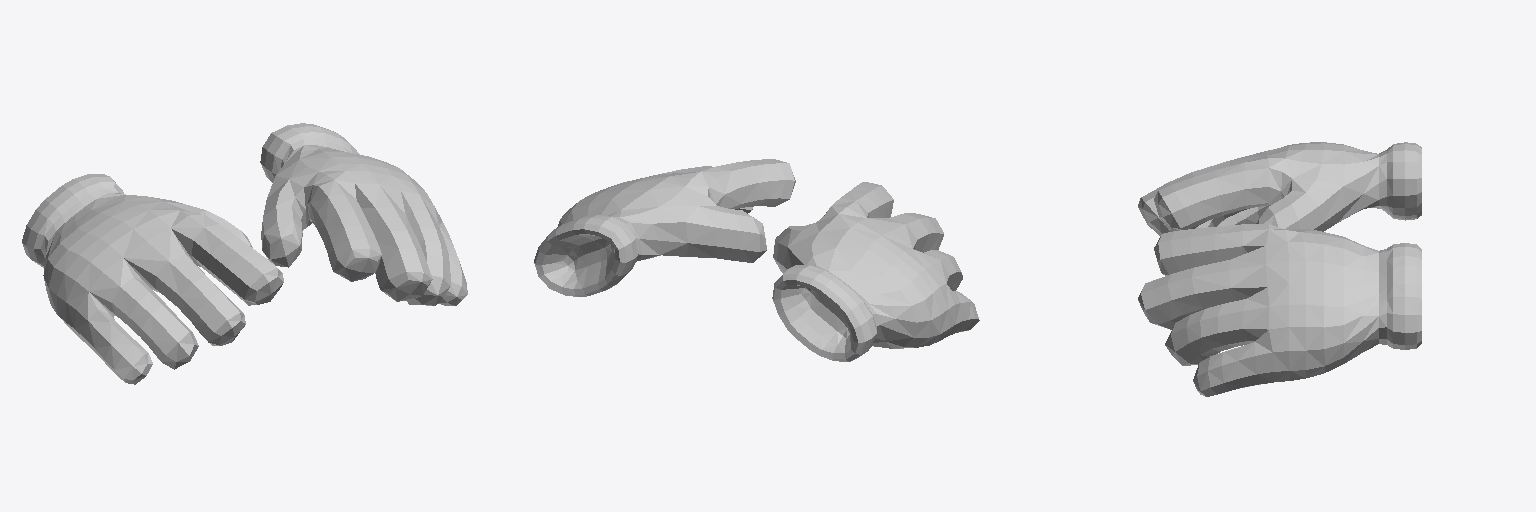
File: gloveLow_poly.obj
3 renders of one model, left to right at view 1: azimuth 30°, elevation 25°; view 2: azimuth 150°, elevation 25°; view 3: azimuth 270°, elevation 25°, orthographic.
Visible parts, largest first — view 1: Box04, Box05; view 2: Box04, Box05; view 3: Box05, Box04.
Part boxes in pixels (x1,y1,x2,y2): Box04: (22,174,283,384); Box05: (260,123,467,305); Box04: (772,182,979,361); Box05: (534,159,795,296); Box05: (1138,224,1421,396); Box04: (1138,142,1421,236).
Size of the model in its own units: 325 by 104 by 215.